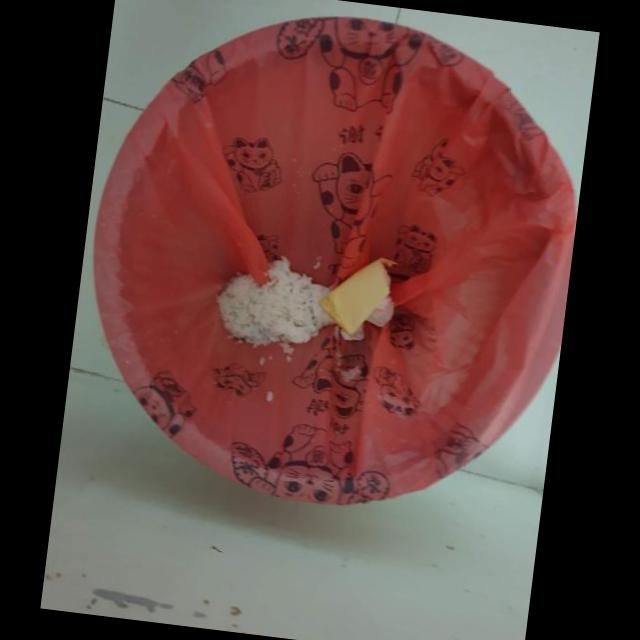giay: (318, 257, 390, 337)
thuc_an_thua: (217, 255, 329, 347)
